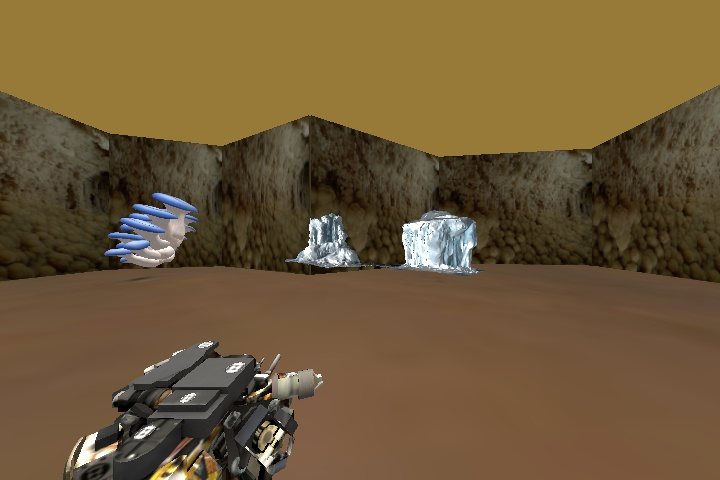minerals: (401, 210, 478, 273), (296, 211, 360, 271)
mushroom: (104, 190, 200, 268)
